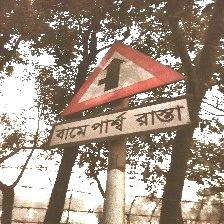Side-road-left: (50, 40, 191, 150)
